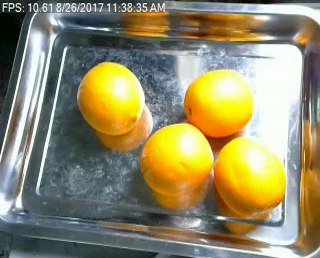Orange: (215, 137, 286, 215), (140, 121, 214, 195), (78, 61, 144, 134), (184, 69, 253, 138)
